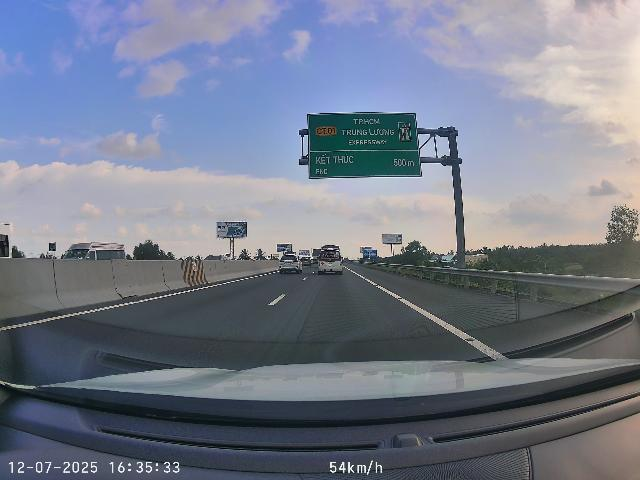438-ket-thuc-duong-cao-toc: (397, 122, 412, 142)
